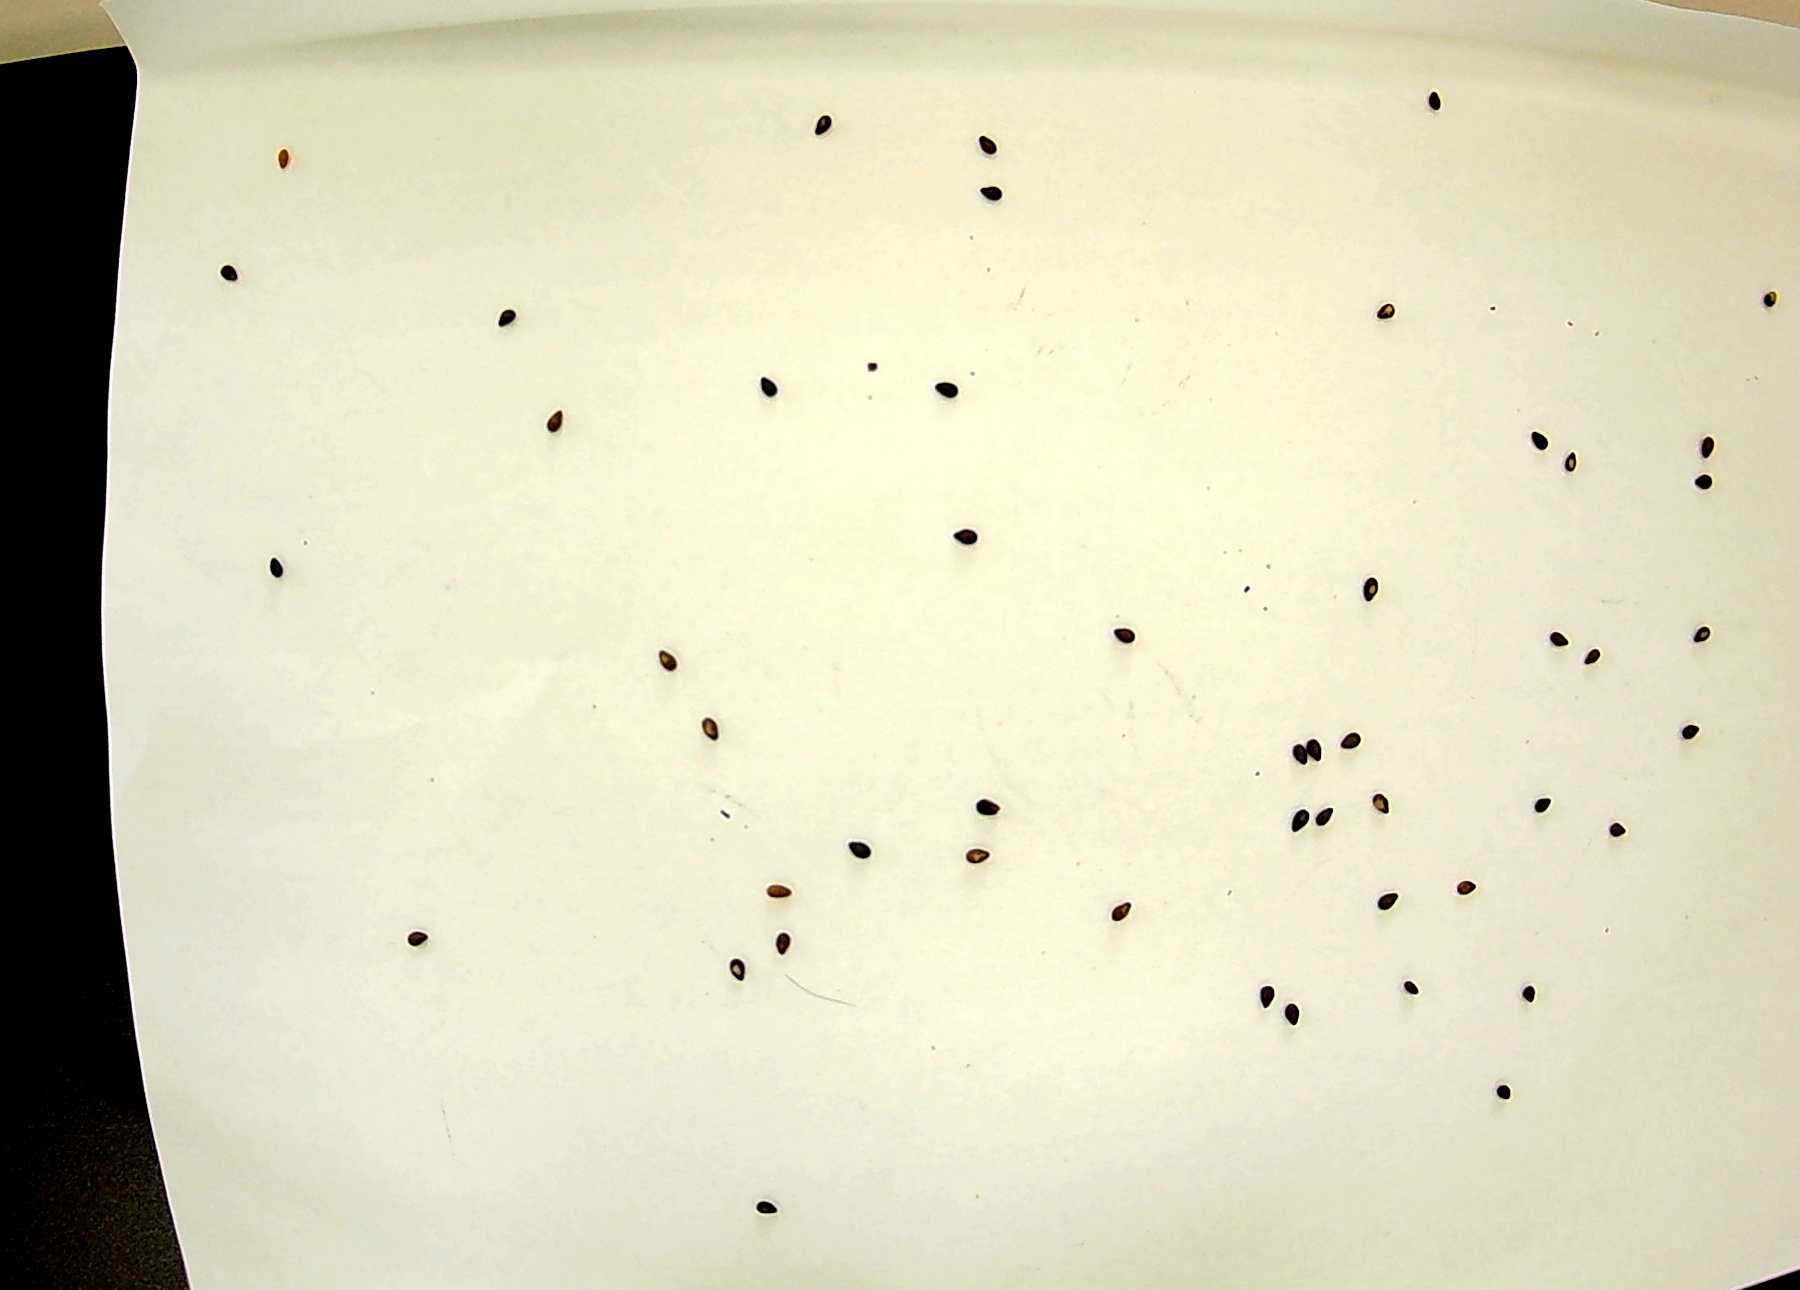sesami: (1674, 620, 1726, 660), (742, 370, 793, 410), (215, 253, 262, 295), (687, 699, 734, 741), (1750, 274, 1787, 322), (1518, 973, 1554, 1021), (1284, 733, 1314, 785), (846, 838, 885, 877), (484, 296, 522, 336), (1482, 1061, 1510, 1115), (1688, 434, 1741, 462), (1518, 426, 1557, 462), (1376, 873, 1402, 923), (758, 919, 793, 956), (964, 792, 1005, 824), (541, 395, 569, 441), (760, 877, 802, 907), (1667, 720, 1711, 750), (800, 116, 841, 145), (1441, 875, 1485, 903), (1280, 808, 1319, 839), (1107, 900, 1139, 937), (1341, 581, 1393, 603), (1679, 469, 1727, 491), (1370, 296, 1402, 329), (1524, 623, 1568, 646), (973, 180, 1012, 207), (1100, 620, 1153, 639), (751, 1196, 784, 1227), (935, 373, 964, 408), (949, 515, 978, 550), (400, 923, 442, 947), (1275, 993, 1307, 1023), (1335, 720, 1366, 752), (726, 961, 751, 1000), (1574, 649, 1607, 679), (1593, 815, 1641, 835), (1365, 787, 1393, 820), (961, 845, 999, 868), (1427, 80, 1450, 119), (653, 646, 685, 673), (1528, 800, 1560, 826), (1305, 725, 1324, 768), (1388, 973, 1427, 993), (265, 556, 289, 588), (974, 131, 1010, 149), (1559, 447, 1584, 472), (1253, 974, 1270, 1008), (1314, 801, 1331, 833), (273, 154, 297, 175)
